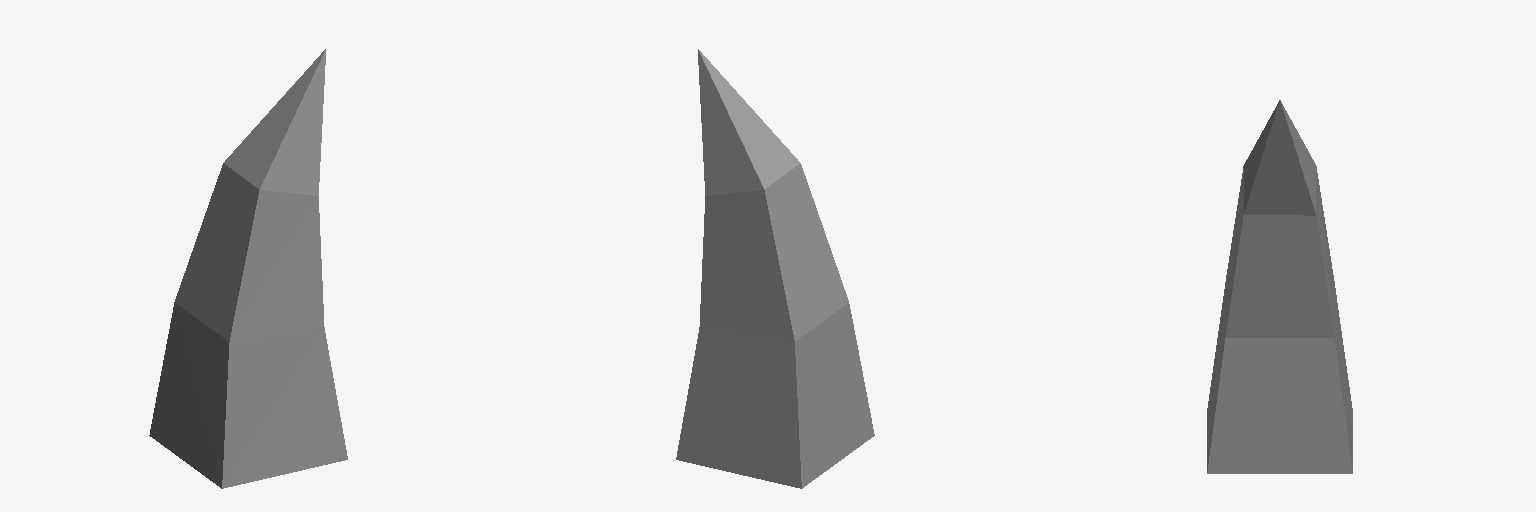
File: skeletal_000004.obj
3 renders of one model, left to right at view 1: azimuth 30°, elevation 25°; view 2: azimuth 150°, elevation 25°; view 3: azimuth 270°, elevation 25°, orthographic.
Parts seen in each view (by area): view 1: Cube; view 2: Cube; view 3: Cube.
Boxes of the visible parts, x1,y1,x2,y2 form: Cube: [149, 49, 347, 488]; Cube: [676, 49, 874, 488]; Cube: [1207, 100, 1352, 473].
Bounding box in the file's own units: 2.23 × 5.78 × 2.